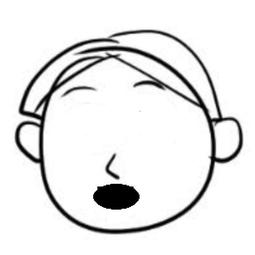ear: (204, 113, 248, 163), (13, 118, 48, 162)
eyebrow: (63, 85, 104, 98), (129, 79, 165, 91)
open_mouth: (88, 181, 146, 212)
pointy_nose: (101, 149, 124, 181)
